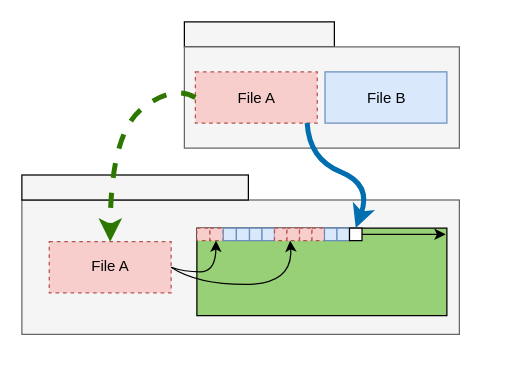
This 506x369 diagram has some shape labels left out. The shapes that lost their labels are listed below. From the top down, each one's centre as x and y in pixels, then its label:
At (258,34): "LFS".
At (134,187): "Computational Storage Device".
